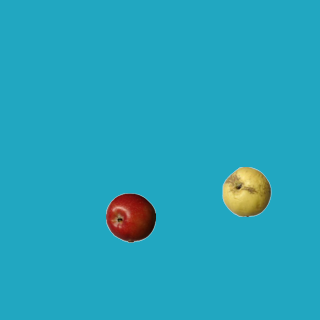Apple Braeburn: (105, 192, 155, 242)
Apple Golden 1: (221, 166, 271, 216)
